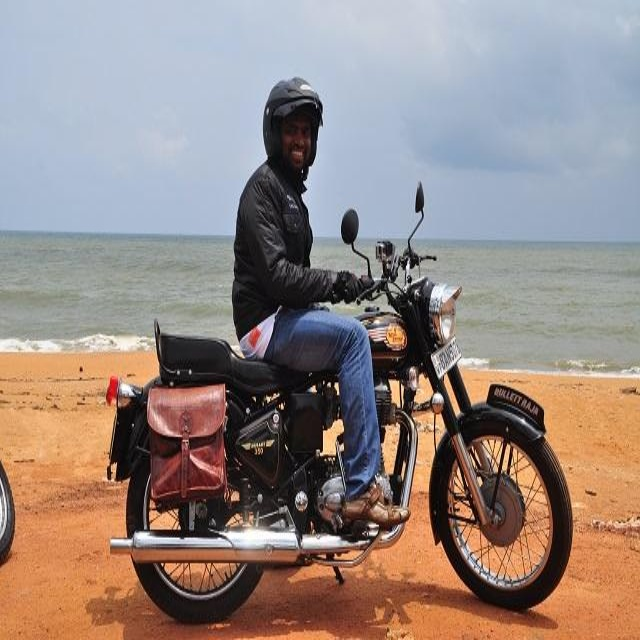Motorcycle: (103, 181, 572, 626)
